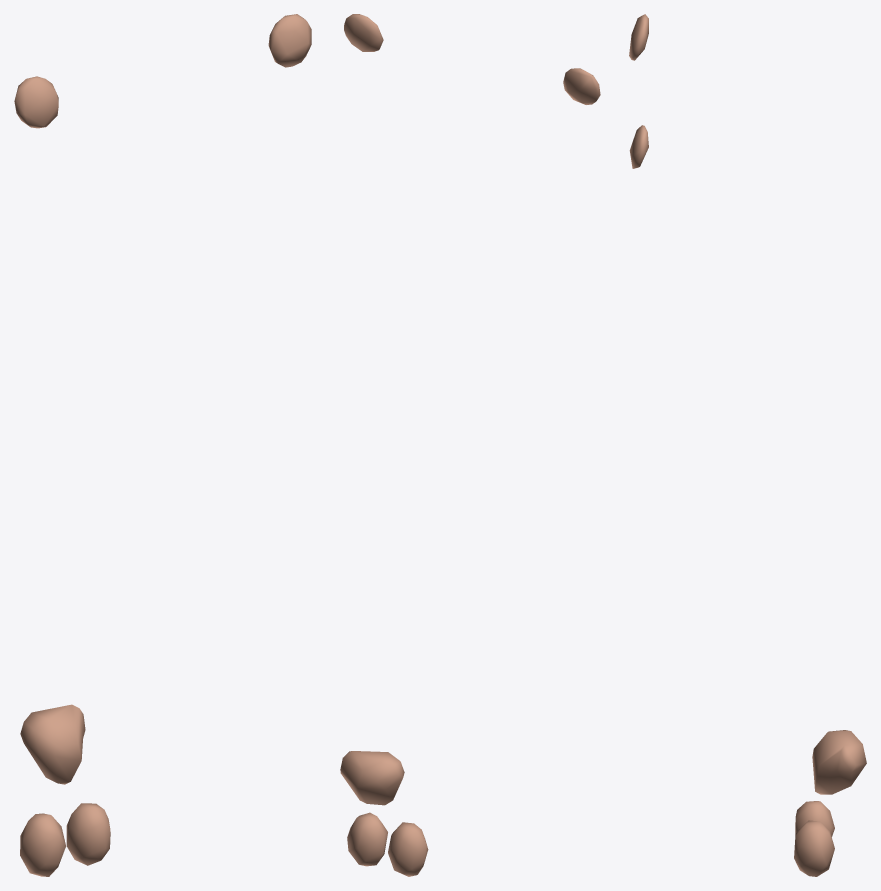
The model's file is pediatric_neonate_male.reproductive.LOD3.glb.
The picture shows the model from 3 angles, left to right: view 1: azimuth 30°, elevation 25°; view 2: azimuth 150°, elevation 25°; view 3: azimuth 270°, elevation 25°; orthographic projection. The views are drawn at different scales.
Visible parts, largest first — view 1: PEDIATRIC.NEONATE.MALE.REPRODUCTIVE.PROSTATE, PEDIATRIC.NEONATE.MALE.REPRODUCTIVE.TESTIS.R, PEDIATRIC.NEONATE.MALE.REPRODUCTIVE.TESTIS.L, PEDIATRIC.NEONATE.MALE.REPRODUCTIVE.BREAST_ADIPOSE_TISSUE.R, PEDIATRIC.NEONATE.MALE.REPRODUCTIVE.BREAST_ADIPOSE_TISSUE.L; view 2: PEDIATRIC.NEONATE.MALE.REPRODUCTIVE.PROSTATE, PEDIATRIC.NEONATE.MALE.REPRODUCTIVE.TESTIS.L, PEDIATRIC.NEONATE.MALE.REPRODUCTIVE.TESTIS.R, PEDIATRIC.NEONATE.MALE.REPRODUCTIVE.BREAST_ADIPOSE_TISSUE.L, PEDIATRIC.NEONATE.MALE.REPRODUCTIVE.BREAST_ADIPOSE_TISSUE.R; view 3: PEDIATRIC.NEONATE.MALE.REPRODUCTIVE.PROSTATE, PEDIATRIC.NEONATE.MALE.REPRODUCTIVE.TESTIS.L, PEDIATRIC.NEONATE.MALE.REPRODUCTIVE.TESTIS.R, PEDIATRIC.NEONATE.MALE.REPRODUCTIVE.BREAST_ADIPOSE_TISSUE.R, PEDIATRIC.NEONATE.MALE.REPRODUCTIVE.BREAST_ADIPOSE_TISSUE.L.
Boxes of the visible parts, x1,y1,x2,y2 form: PEDIATRIC.NEONATE.MALE.REPRODUCTIVE.PROSTATE: [20, 704, 85, 784]; PEDIATRIC.NEONATE.MALE.REPRODUCTIVE.TESTIS.R: [20, 813, 65, 876]; PEDIATRIC.NEONATE.MALE.REPRODUCTIVE.TESTIS.L: [66, 803, 110, 865]; PEDIATRIC.NEONATE.MALE.REPRODUCTIVE.BREAST_ADIPOSE_TISSUE.R: [14, 76, 58, 128]; PEDIATRIC.NEONATE.MALE.REPRODUCTIVE.BREAST_ADIPOSE_TISSUE.L: [268, 14, 311, 67]; PEDIATRIC.NEONATE.MALE.REPRODUCTIVE.PROSTATE: [340, 751, 404, 805]; PEDIATRIC.NEONATE.MALE.REPRODUCTIVE.TESTIS.L: [347, 812, 387, 866]; PEDIATRIC.NEONATE.MALE.REPRODUCTIVE.TESTIS.R: [388, 822, 428, 876]; PEDIATRIC.NEONATE.MALE.REPRODUCTIVE.BREAST_ADIPOSE_TISSUE.L: [344, 14, 383, 51]; PEDIATRIC.NEONATE.MALE.REPRODUCTIVE.BREAST_ADIPOSE_TISSUE.R: [563, 68, 600, 104]; PEDIATRIC.NEONATE.MALE.REPRODUCTIVE.PROSTATE: [812, 730, 866, 794]; PEDIATRIC.NEONATE.MALE.REPRODUCTIVE.TESTIS.L: [794, 820, 834, 876]; PEDIATRIC.NEONATE.MALE.REPRODUCTIVE.TESTIS.R: [795, 801, 834, 836]; PEDIATRIC.NEONATE.MALE.REPRODUCTIVE.BREAST_ADIPOSE_TISSUE.R: [629, 14, 648, 60]; PEDIATRIC.NEONATE.MALE.REPRODUCTIVE.BREAST_ADIPOSE_TISSUE.L: [629, 125, 648, 168].
Bounding box in the file's own units: 0.0621 × 0.1789 × 0.0486.
